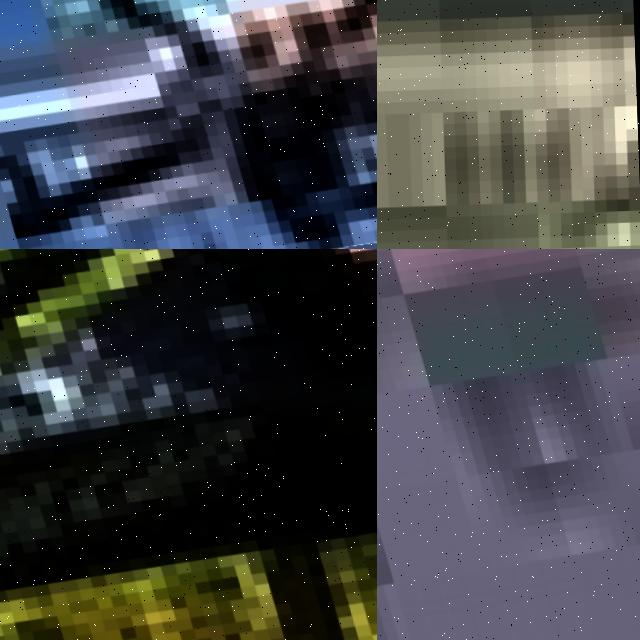drone: (0, 249, 377, 640), (377, 249, 640, 640), (0, 0, 377, 249)
